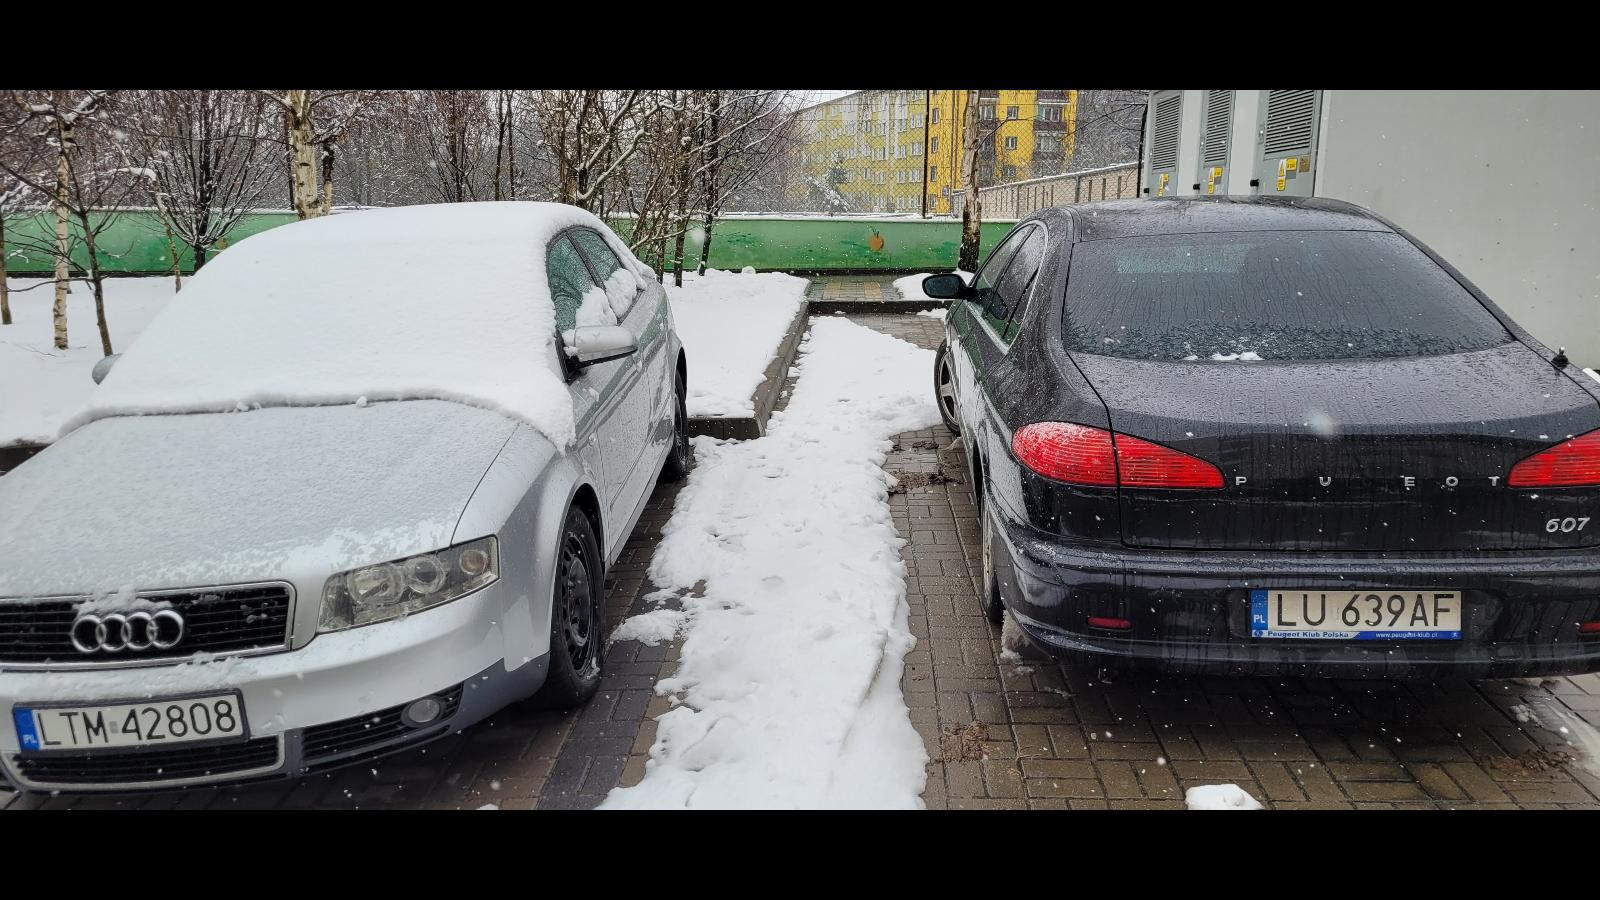plates: (12, 689, 250, 759), (1248, 588, 1464, 642)
